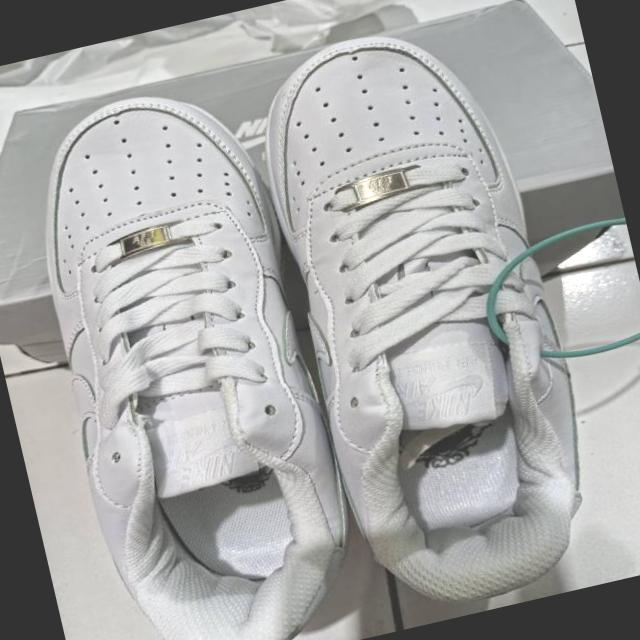nike_fake_airforce: (238, 2, 622, 624), (0, 65, 378, 640)
